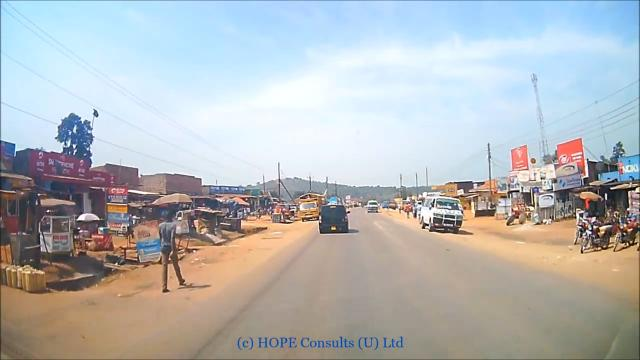van: (417, 194, 473, 237), (318, 203, 350, 234), (366, 200, 379, 213)
